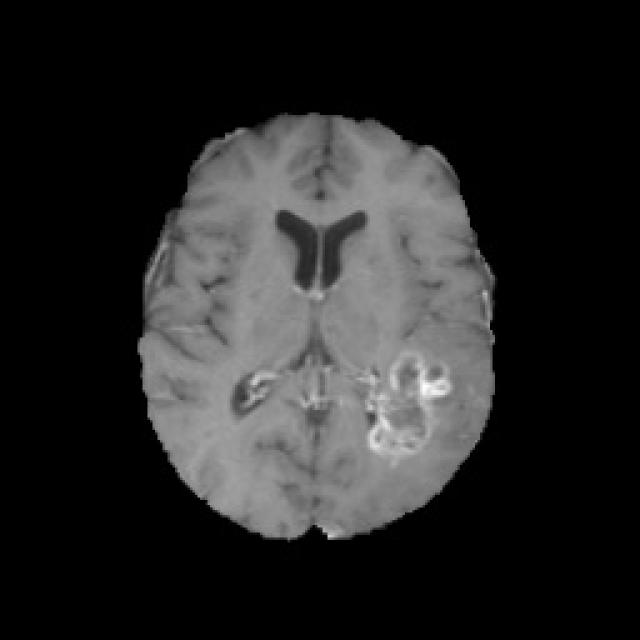negative: (368, 349, 450, 461)
